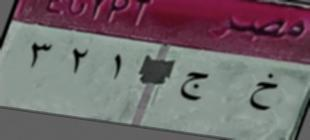1: (105, 50, 125, 82)
2: (68, 42, 90, 80)
3: (24, 39, 55, 72)
jeem: (178, 66, 210, 106)
khaa: (247, 69, 280, 117)
